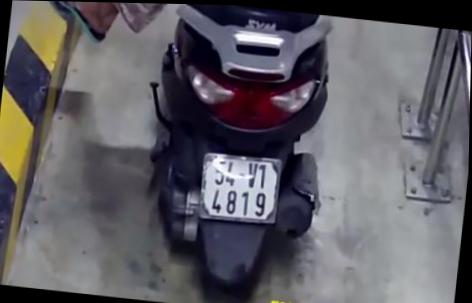LP: (197, 147, 286, 225)
